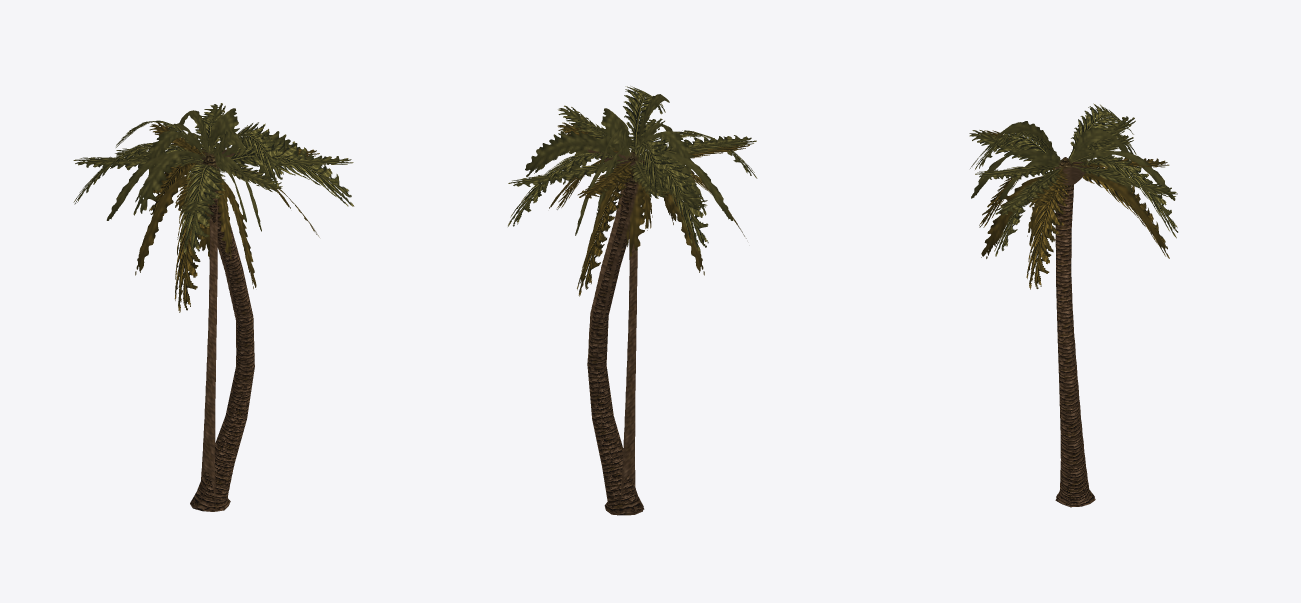
File: Palmeira_05_Velha_Copa_Rala.glb
The picture shows the model from 3 angles, left to right: view 1: azimuth 30°, elevation 25°; view 2: azimuth 150°, elevation 25°; view 3: azimuth 270°, elevation 25°; orthographic projection. The views are drawn at different scales.
Parts seen in each view (by area): view 1: Palmeira_05_Velha_Copa_Rala impostor, Caule, Folhas abertas, Folhas inferiores, Folhas novas; view 2: Palmeira_05_Velha_Copa_Rala impostor, Caule, Folhas abertas, Folhas novas, Folhas inferiores; view 3: Palmeira_05_Velha_Copa_Rala impostor, Caule, Folhas inferiores, Folhas abertas, Folhas novas.
Boxes of the visible parts, bbox=[...] form: Palmeira_05_Velha_Copa_Rala impostor: bbox=[73, 103, 353, 511]; Caule: bbox=[190, 190, 254, 511]; Folhas abertas: bbox=[73, 118, 354, 254]; Folhas inferiores: bbox=[149, 162, 319, 312]; Folhas novas: bbox=[116, 120, 283, 187]; Palmeira_05_Velha_Copa_Rala impostor: bbox=[508, 94, 756, 515]; Caule: bbox=[587, 182, 643, 515]; Folhas abertas: bbox=[508, 119, 757, 252]; Folhas novas: bbox=[623, 86, 671, 196]; Folhas inferiores: bbox=[556, 159, 746, 296]; Palmeira_05_Velha_Copa_Rala impostor: bbox=[969, 116, 1177, 497]; Caule: bbox=[1055, 186, 1095, 507]; Folhas inferiores: bbox=[979, 166, 1169, 289]; Folhas abertas: bbox=[970, 124, 1178, 256]; Folhas novas: bbox=[975, 103, 1133, 169].
Size of what is drawn, in the model's own units: 11.01 by 11.01 by 11.01.
Materials: 3 (3 with a texture image).
